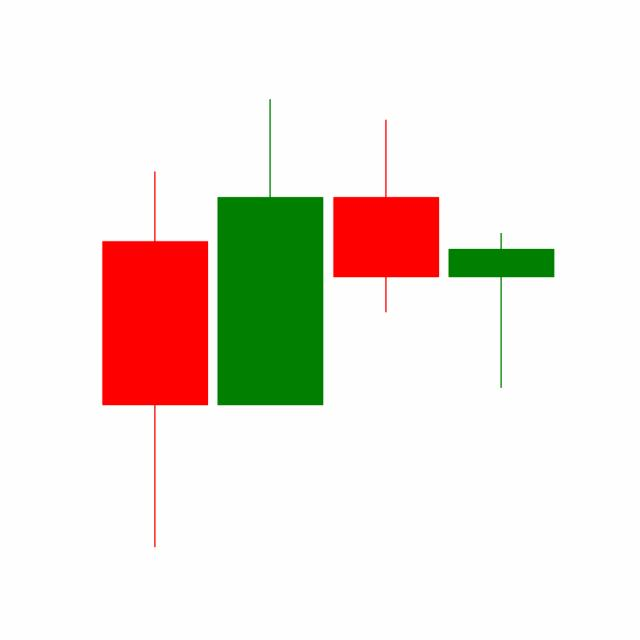Hammer: (443, 230, 559, 389)
